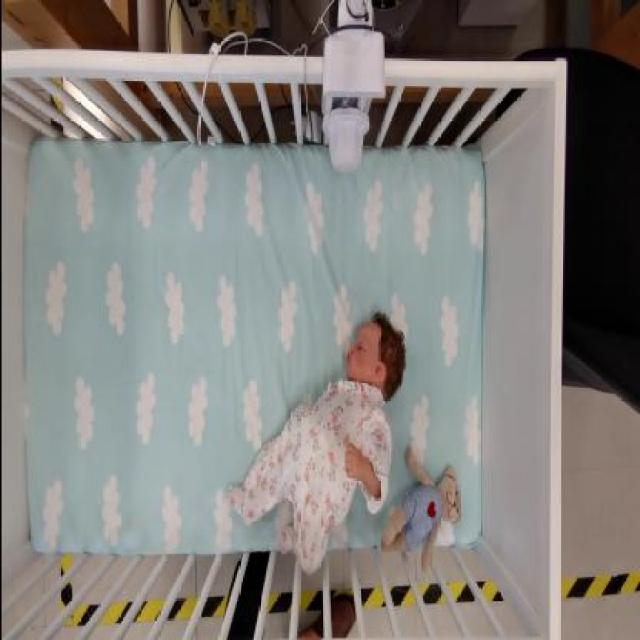baby: (234, 306, 410, 576)
